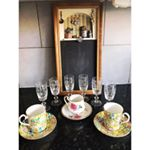cups: (19, 103, 51, 137), (101, 101, 131, 132), (63, 93, 87, 116)
